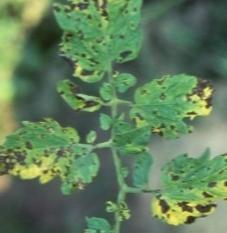Tomato Septoria leaf spot: (0, 115, 105, 201), (52, 0, 153, 81), (120, 75, 227, 138), (145, 151, 227, 228), (52, 79, 103, 120)
